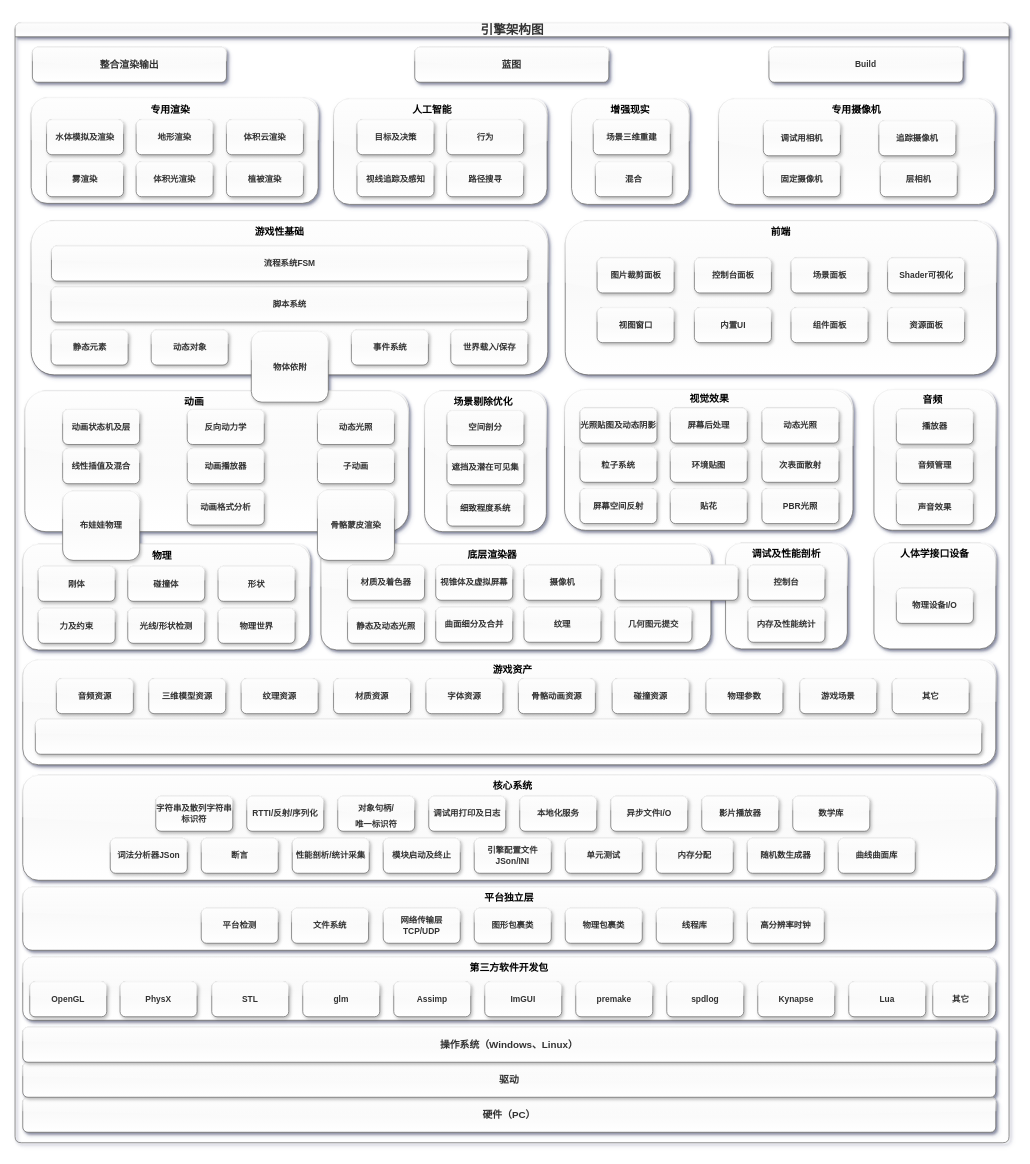
This 1030x1164 diagram has some shape labels left out. Each missing label, with the centre of its shape:
"调试绘图" belongs at [676,583].
"资源管理器" belongs at [509,737].
